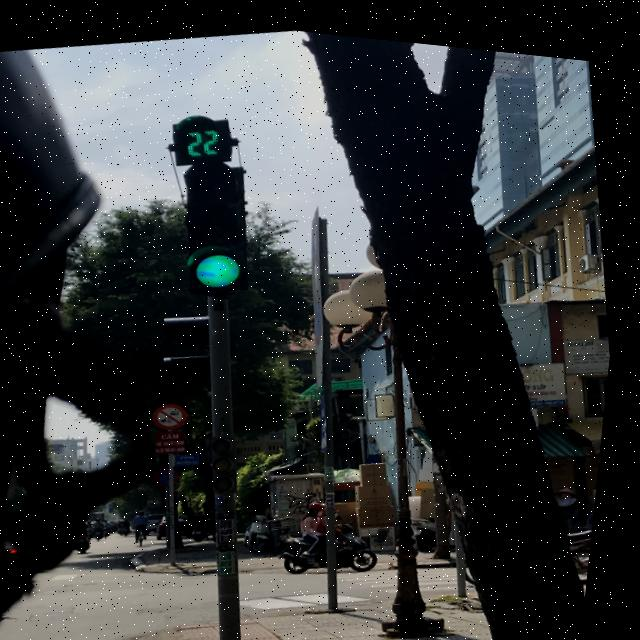Green: (163, 146, 270, 296)
